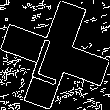L_N: (32, 26, 78, 84)
